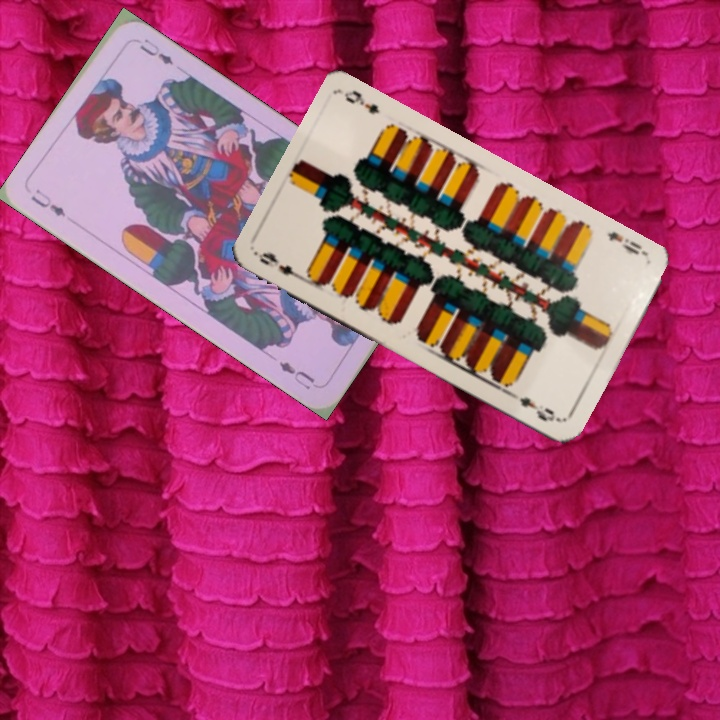E9: (254, 248, 310, 284), (603, 227, 651, 259)
EU: (27, 184, 69, 220)
